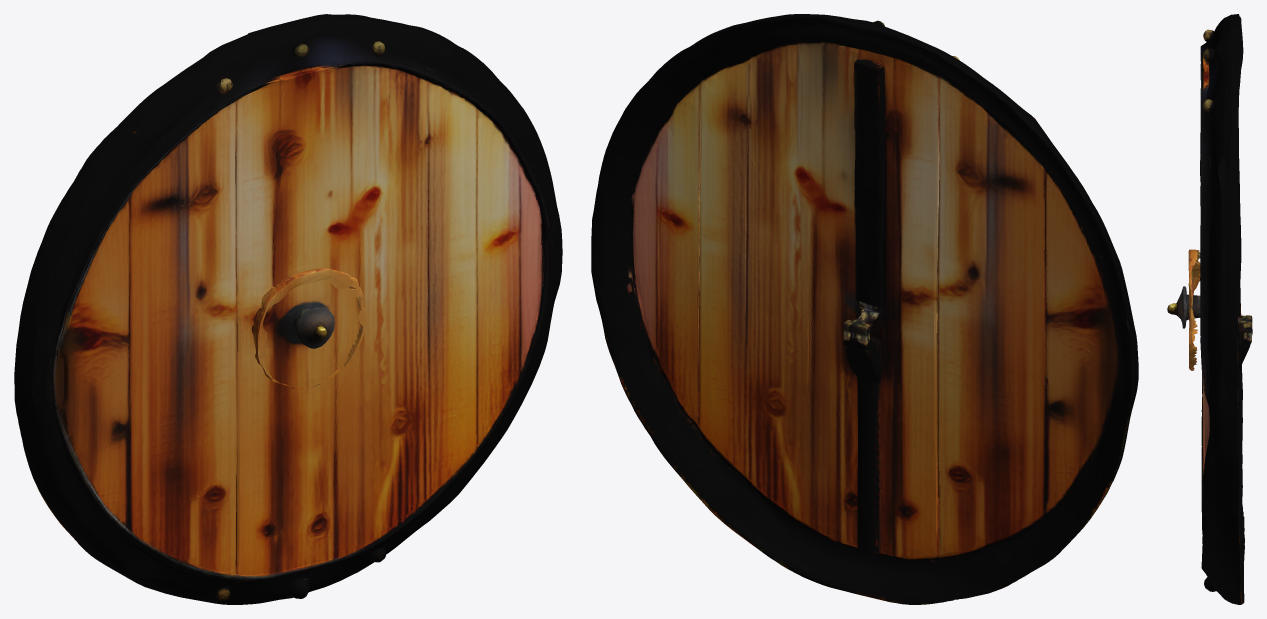
Rendered from Trellis.glb.
The picture shows the model from 3 angles, left to right: view 1: azimuth 30°, elevation 25°; view 2: azimuth 150°, elevation 25°; view 3: azimuth 270°, elevation 25°; orthographic projection. The views are drawn at different scales.
Parts seen in each view (by area): view 1: world; view 2: world; view 3: world.
Boxes of the visible parts, box(x1,y1,x2,y2) form: world: box(14, 14, 562, 604); world: box(591, 14, 1138, 604); world: box(1167, 14, 1252, 604).
Bounding box in the file's own units: 0.9992 × 1 × 0.145.
1 material, 1 textured.
